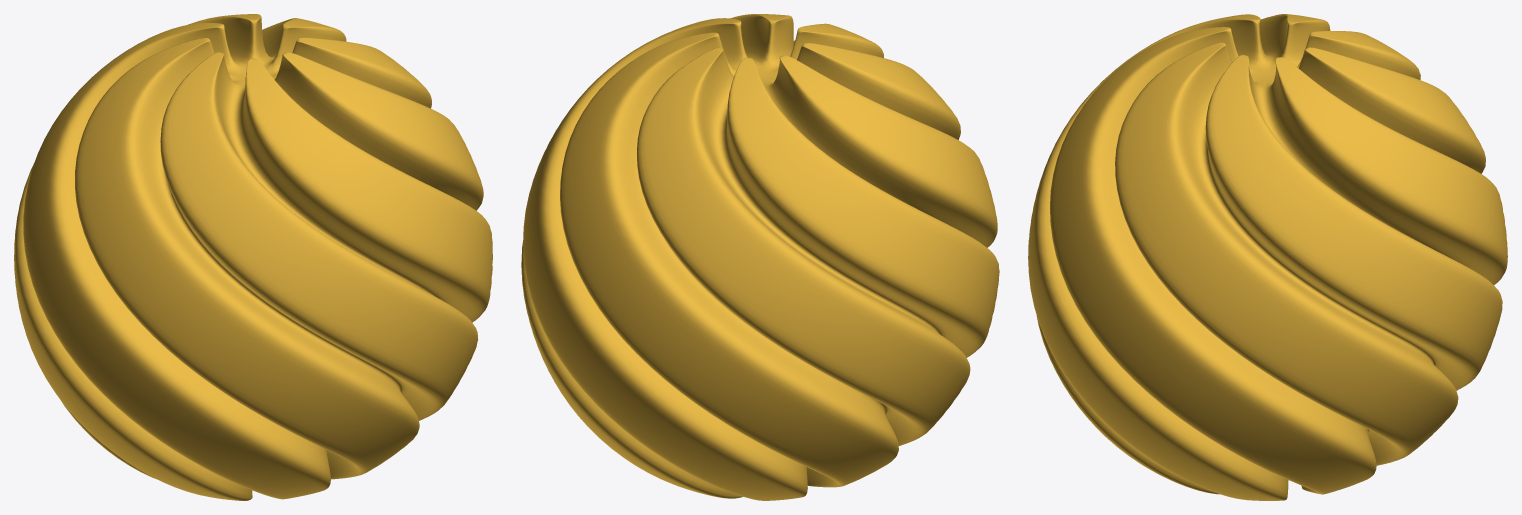
The model's file is grooves_gold.glb.
The picture shows the model from 3 angles, left to right: view 1: azimuth 30°, elevation 25°; view 2: azimuth 150°, elevation 25°; view 3: azimuth 270°, elevation 25°; orthographic projection.
Visible parts, largest first — view 1: Sphere.030; view 2: Sphere.030; view 3: Sphere.030.
Part boxes in pixels (x1,y1,x2,y2): Sphere.030: [14, 14, 492, 500]; Sphere.030: [521, 14, 999, 500]; Sphere.030: [1028, 14, 1507, 500].
Bounding box in the file's own units: 1.95 × 1.96 × 1.95.
